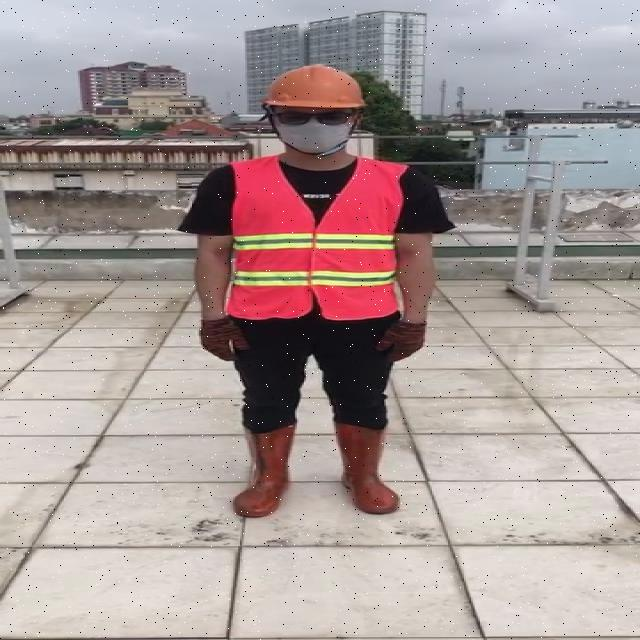Hard_hat: (255, 60, 371, 122)
Vest: (223, 156, 398, 320)
